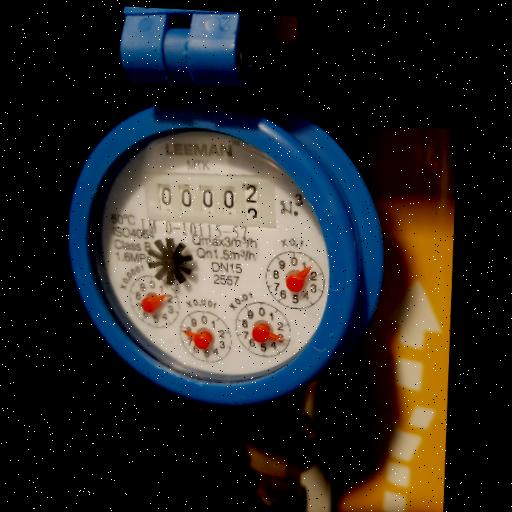0: (220, 184, 239, 218), (198, 183, 217, 215), (157, 183, 176, 212), (178, 183, 195, 214)
2: (241, 182, 262, 222)
border_water_meter_number: (139, 162, 279, 238)
